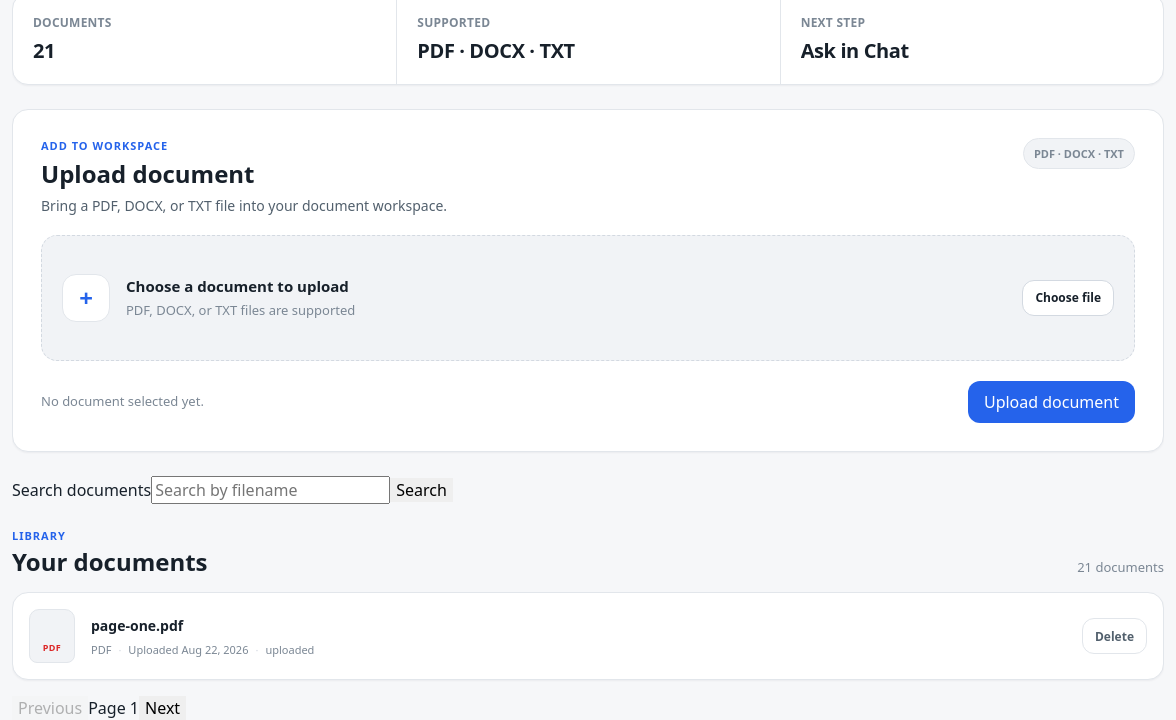
it: DashboardPage › returns to the previous page
The width and height of the screenshot is (1176, 720).
(page scrolled)
Expected: the text "page-one.pdf" is shown, [91, 616, 183, 635]
Click the button with aria-label "Next page" at (163, 708), box [139, 696, 186, 719]
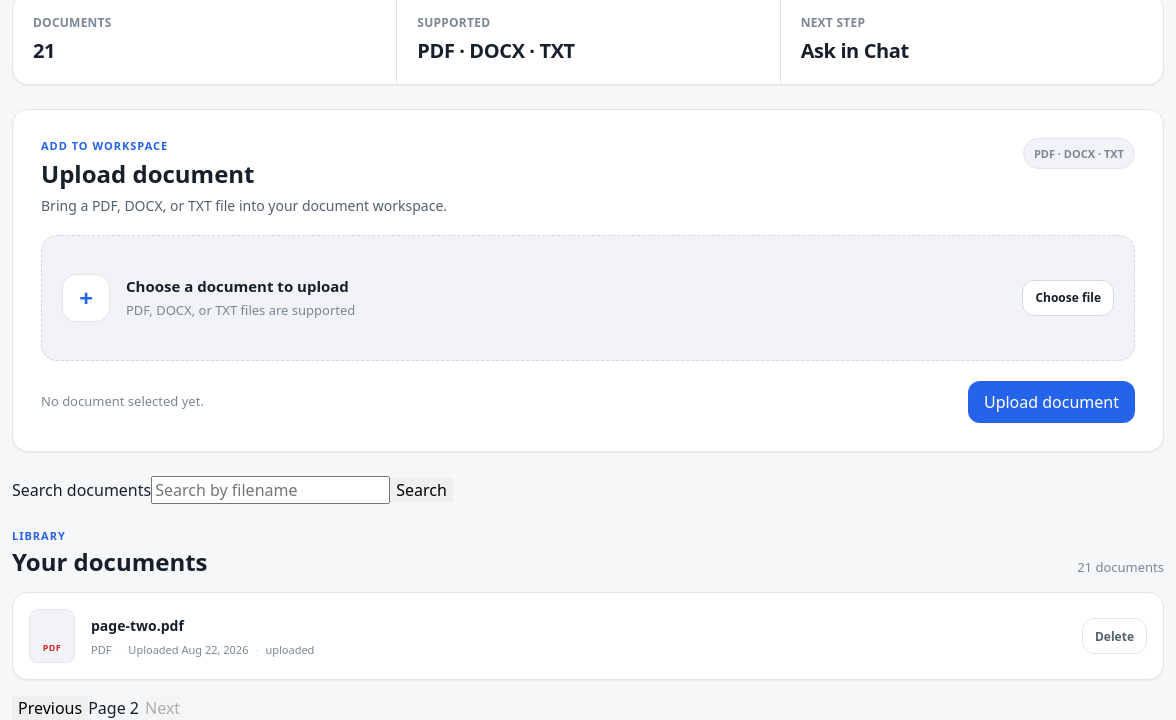
Expected: the text "page-two.pdf" is shown, [91, 616, 184, 635]
Click the button with aria-label "Previous page" at (50, 708), box [12, 696, 88, 719]
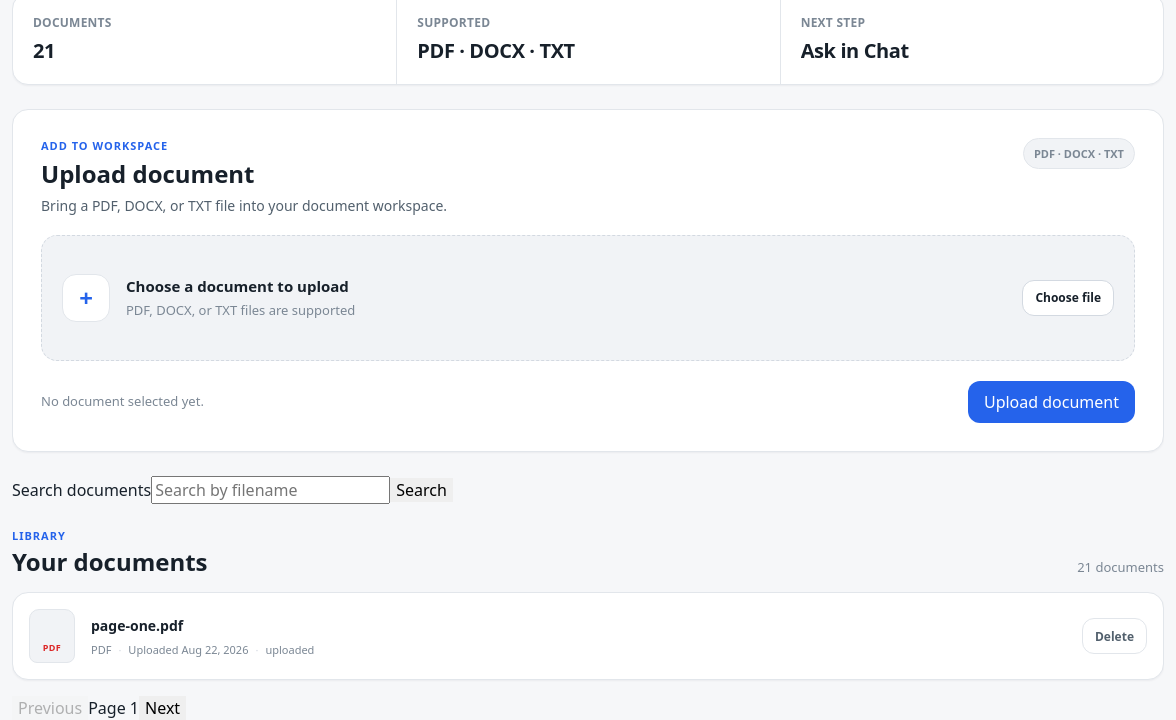
Expected: the text "page-one.pdf" is shown, [91, 616, 183, 635]
